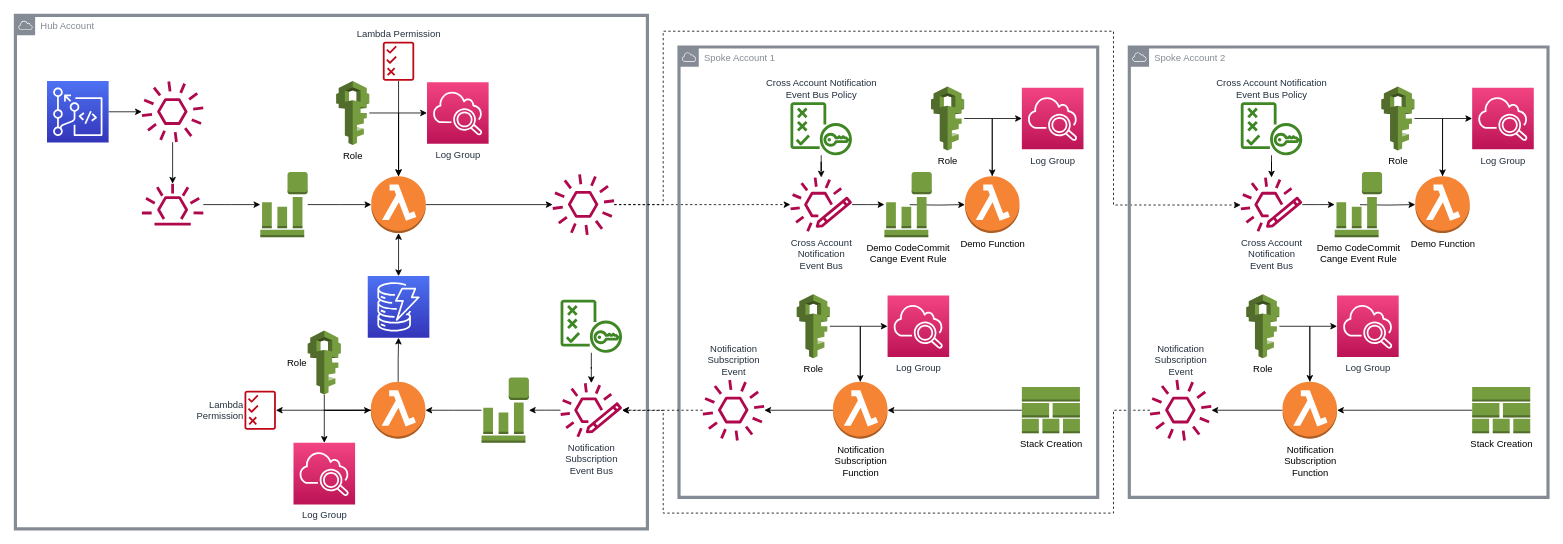
Some shapes in this 1563 by 544 pixel diagram are drawn without their labels. The shapes that lost their labels are listed below. From the top down, each one's centre as x and y in pixels, then its label:
point (77, 111): CodeCommit Repository
point (172, 111): CodeCommit Event
point (172, 204): Default Event Bus
point (284, 204): CodeCommit Repo State Change Event Rule
point (398, 204): Event Delivery Function
point (583, 204): Custom CodeCommit Repo State Change Event
point (398, 306): DynamoDB Table Notification Configuration
point (591, 325): Notification Subscription Event Bus Policy
point (397, 410): Notification Configuration Function
point (505, 410): Notification Configuration Event Rule
